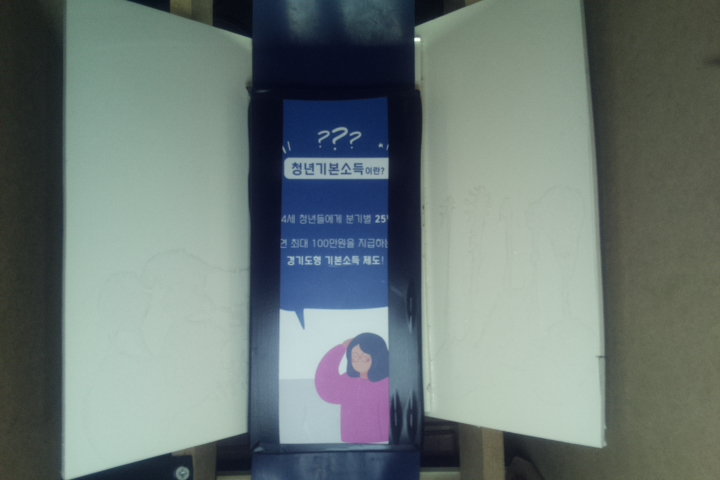book: (249, 88, 426, 455)
